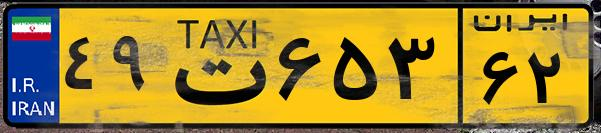2: (525, 38, 570, 115)
3: (385, 28, 445, 110)
4: (57, 26, 110, 100)
5: (330, 28, 385, 110)
6: (270, 28, 330, 110), (475, 38, 525, 113)
9: (110, 28, 158, 98)
ت: (158, 12, 270, 120)
